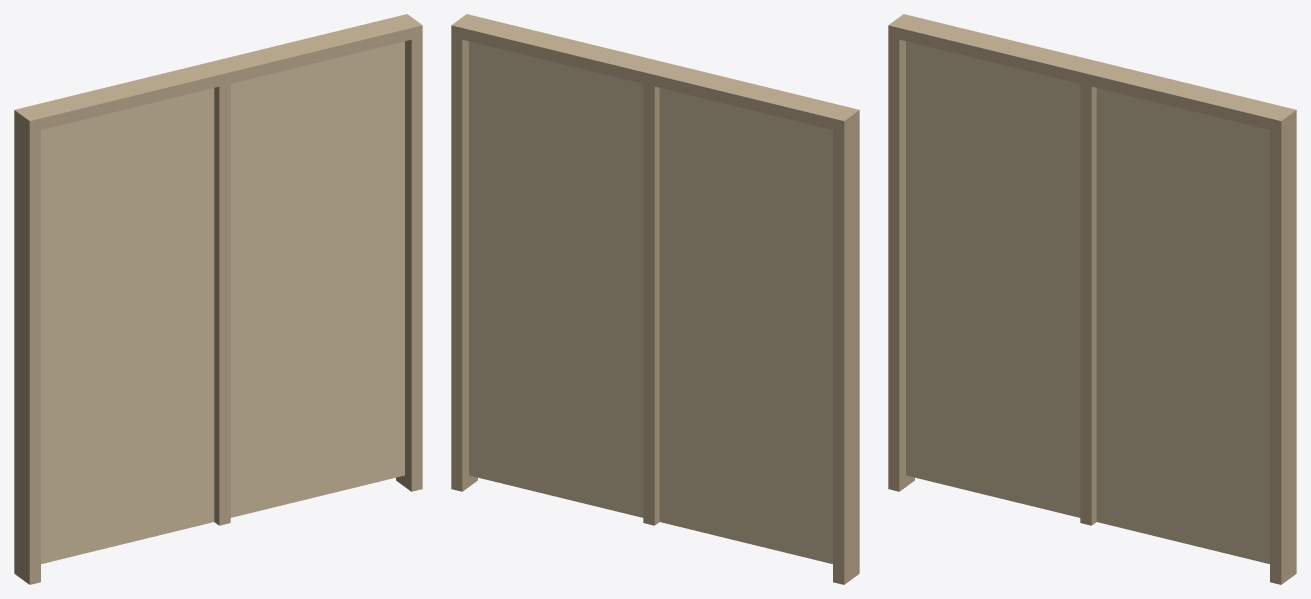
3 renders of one model, left to right at view 1: azimuth 30°, elevation 25°; view 2: azimuth 150°, elevation 25°; view 3: azimuth 330°, elevation 25°, orthographic.
Parts seen in each view (by area): view 1: leaf, frame (×4); view 2: leaf, frame (×4); view 3: leaf, frame (×4).
Part boxes in pixels (x1,y1,x2,y2): leaf: (41,41,404,563); frame (×4): (14,14,422,584); leaf: (469,41,832,563); frame (×4): (451,14,859,584); leaf: (906,41,1269,563); frame (×4): (888,14,1296,584).
Size of the model in its own units: 1.76 by 1.99 by 0.12.
